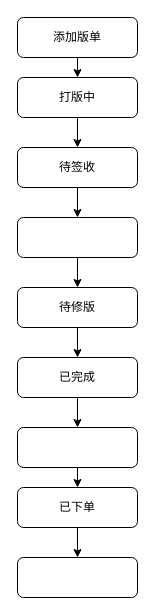
The diagram is 155 pixels wide and 615 high, and some of its shapes have lost their labels. Here are the shapes that lost their labels. From the top down, the box of each, then its label:
(16, 216, 138, 258): 审版中
(16, 426, 138, 468): 待下单
(16, 556, 138, 598): 已取消
